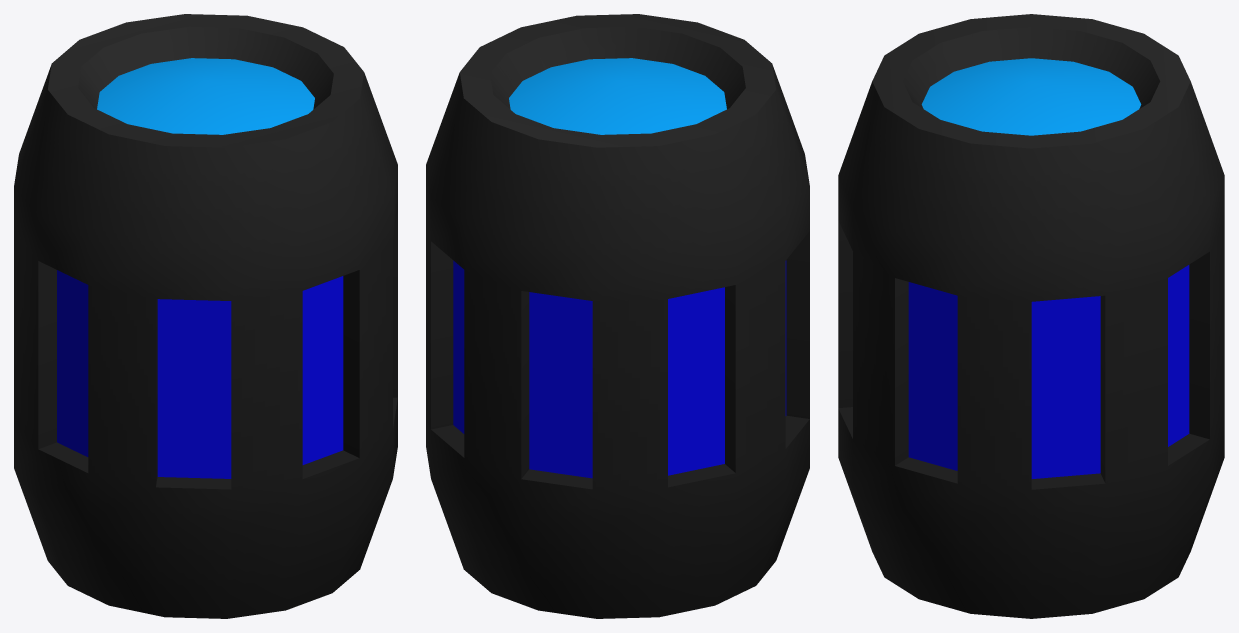
Rendered from Msh_Loader.FBX.
The picture shows the model from 3 angles, left to right: view 1: azimuth 30°, elevation 25°; view 2: azimuth 150°, elevation 25°; view 3: azimuth 270°, elevation 25°; orthographic projection.
Parts seen in each view (by area): view 1: Msh_Load; view 2: Msh_Load; view 3: Msh_Load.
Boxes of the visible parts, left/top/right/bottom form: Msh_Load: left=14, top=14, right=397, bottom=618; Msh_Load: left=426, top=14, right=809, bottom=618; Msh_Load: left=838, top=14, right=1224, bottom=618.
Bounding box in the file's own units: 7.34 × 7.34 × 9.85.
